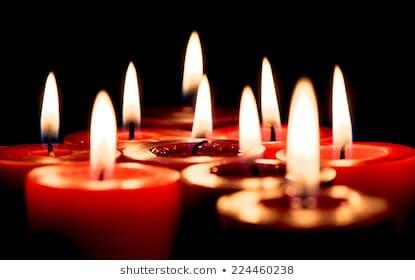fire: (285, 72, 319, 182), (188, 31, 212, 143), (179, 26, 205, 124), (90, 88, 116, 172), (331, 61, 352, 149), (39, 67, 61, 140), (239, 80, 261, 152), (121, 59, 141, 129), (260, 57, 279, 126)
